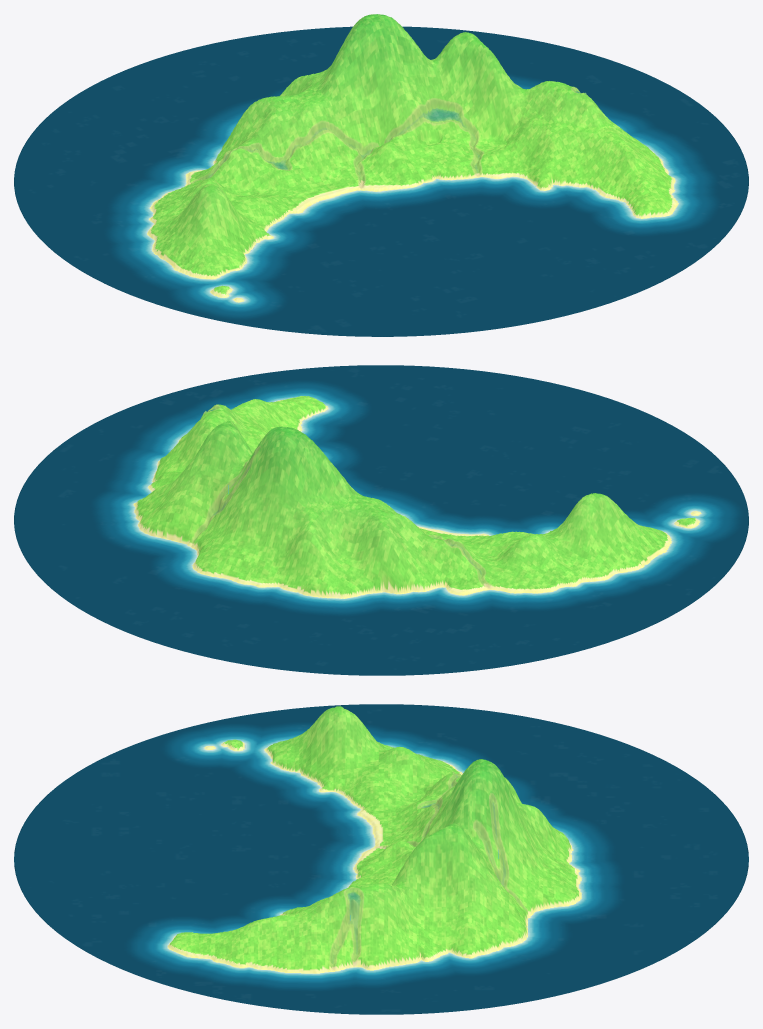
Rendered from island_terrain.glb.
3 views of the same model, one above another, from view 1: azimuth 30°, elevation 25°; view 2: azimuth 150°, elevation 25°; view 3: azimuth 270°, elevation 25° (orthographic).
Parts seen in each view (by area): view 1: ocean-baked-disc, terrain; view 2: ocean-baked-disc, terrain; view 3: ocean-baked-disc, terrain.
Part boxes in pixels (x1,y1,x2,y2): ocean-baked-disc: (14,26,748,336); terrain: (147,14,678,302); ocean-baked-disc: (14,365,748,675); terrain: (133,396,701,598); ocean-baked-disc: (14,704,748,1014); terrain: (167,706,581,973).
Size of the model in its own units: 15700 by 2782 by 15700.
4 materials, 2 textured.
